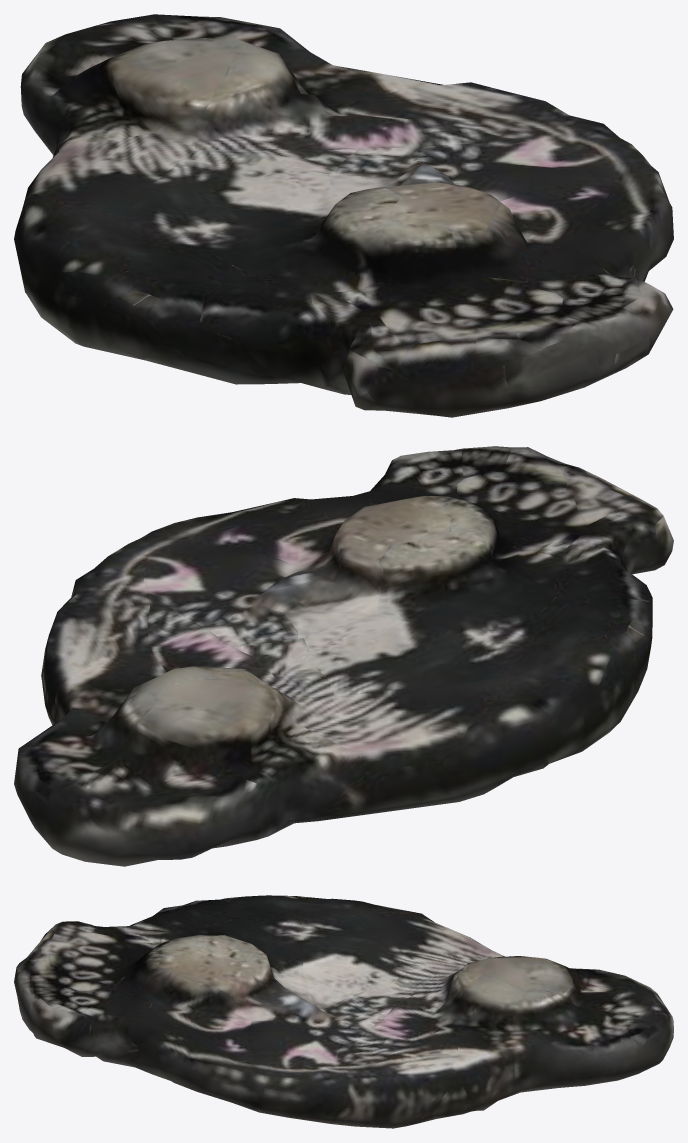
File: hall.glb
3 renders of one model, top to bottom at view 1: azimuth 30°, elevation 25°; view 2: azimuth 150°, elevation 25°; view 3: azimuth 270°, elevation 25°, orthographic. The views are drawn at different scales.
Bounding box in the file's own units: 0.3861 × 0.093 × 0.5776.
Materials: 1 (1 with a texture image).
